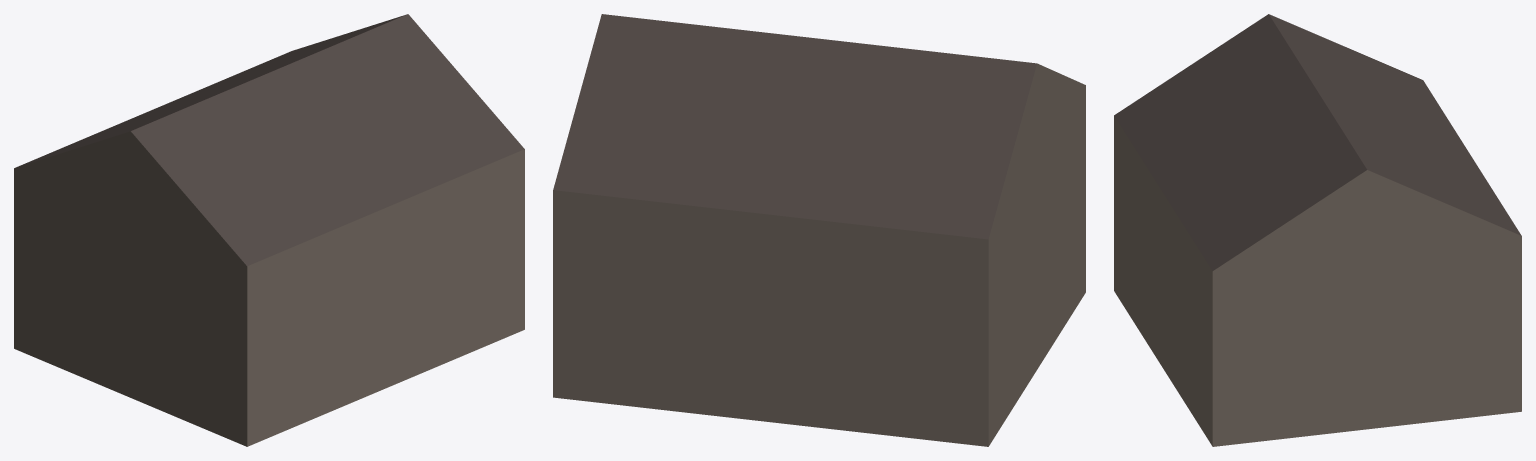
The picture shows the model from 3 angles, left to right: view 1: azimuth 30°, elevation 25°; view 2: azimuth 150°, elevation 25°; view 3: azimuth 270°, elevation 25°; orthographic projection. The views are drawn at different scales.
Parts seen in each view (by area): view 1: HP-w859082458; view 2: HP-w859082458; view 3: HP-w859082458.
Boxes of the visible parts, bbox=[...] form: HP-w859082458: bbox=[14, 14, 524, 446]; HP-w859082458: bbox=[553, 14, 1085, 446]; HP-w859082458: bbox=[1114, 14, 1521, 446].
Size of the model in its own units: 20.99 by 13.29 by 18.93.
